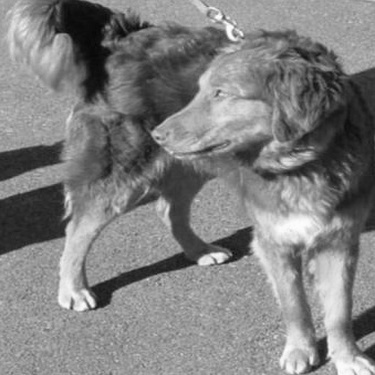dog: (2, 8, 370, 371)
